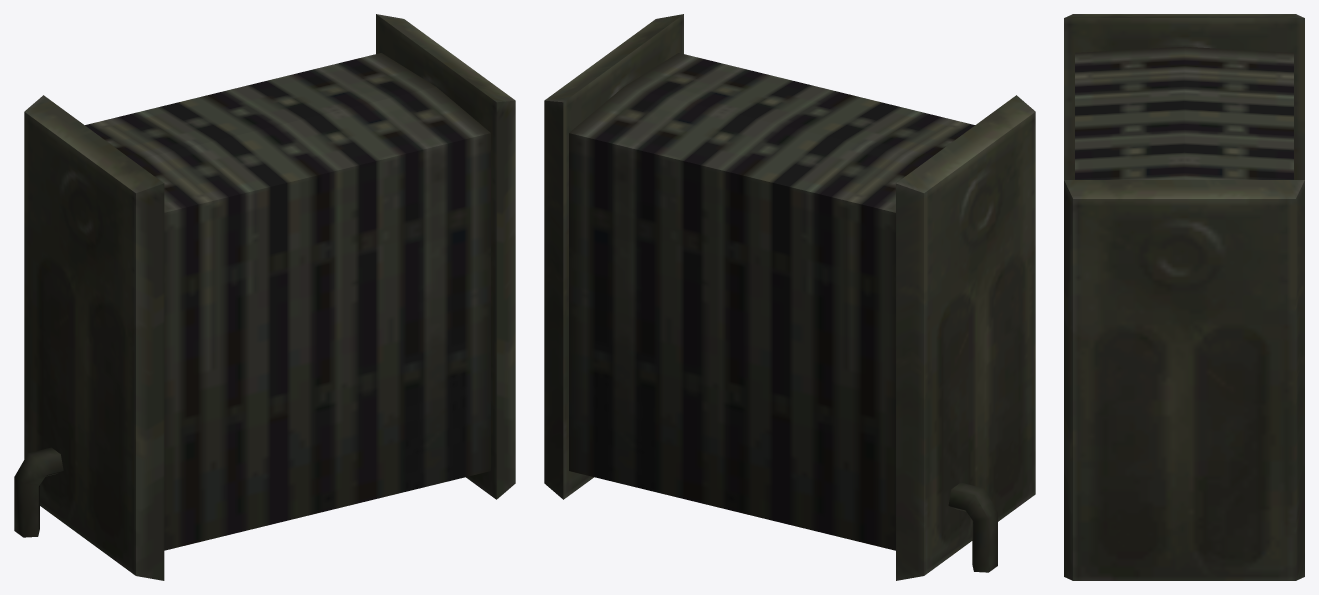
File: ww2_radiator.obj
The picture shows the model from 3 angles, left to right: view 1: azimuth 30°, elevation 25°; view 2: azimuth 150°, elevation 25°; view 3: azimuth 270°, elevation 25°; orthographic projection.
Parts seen in each view (by area): view 1: ww2_radiator; view 2: ww2_radiator; view 3: ww2_radiator.
Boxes of the visible parts, box(x1,y1,x2,y2) form: ww2_radiator: box(14, 14, 515, 580); ww2_radiator: box(544, 14, 1035, 580); ww2_radiator: box(1064, 14, 1304, 580).
Bounding box in the file's own units: 0.8787 × 0.8 × 0.44.
1 material, 1 textured.
